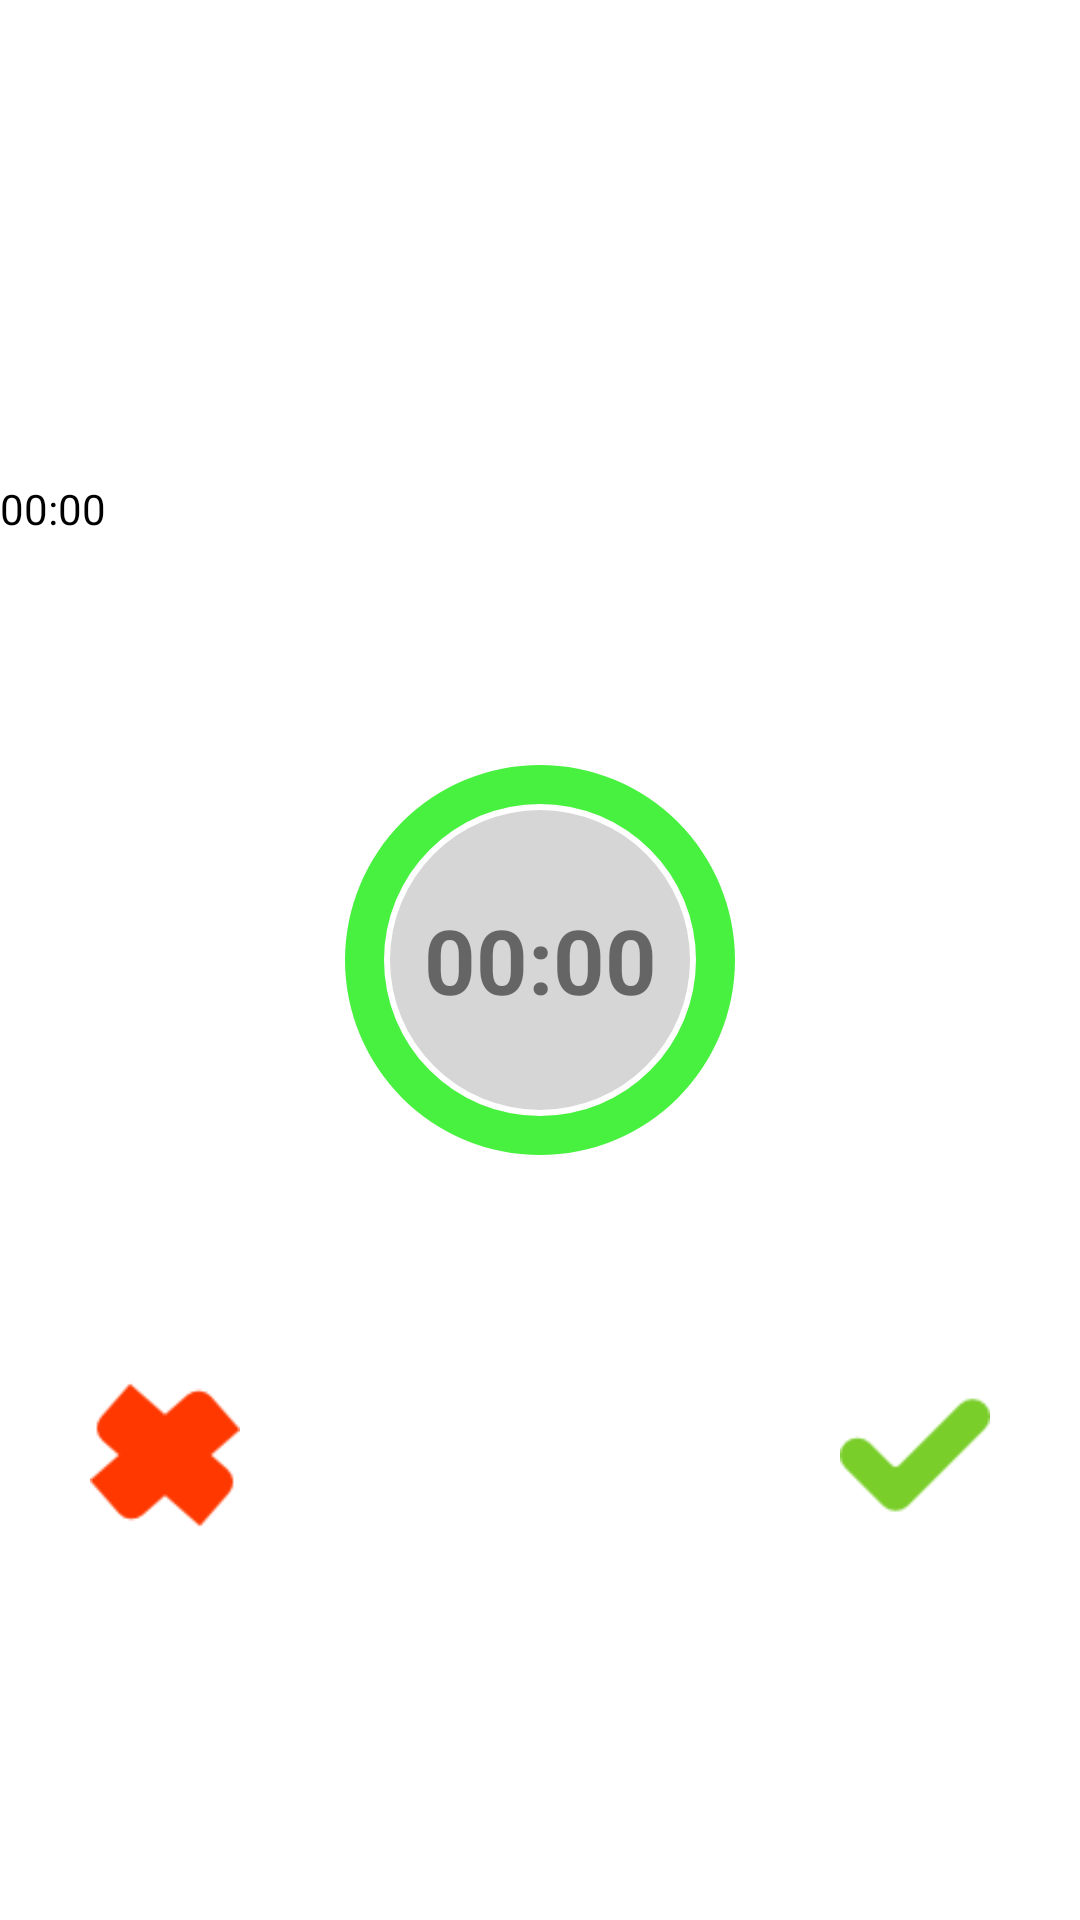

Screen size 1080px×1920px. Icon name, then its box in pixels as (x1, y1, x2, y2):
check mark: (840, 1398, 990, 1512)
cross: (90, 1384, 240, 1526)
